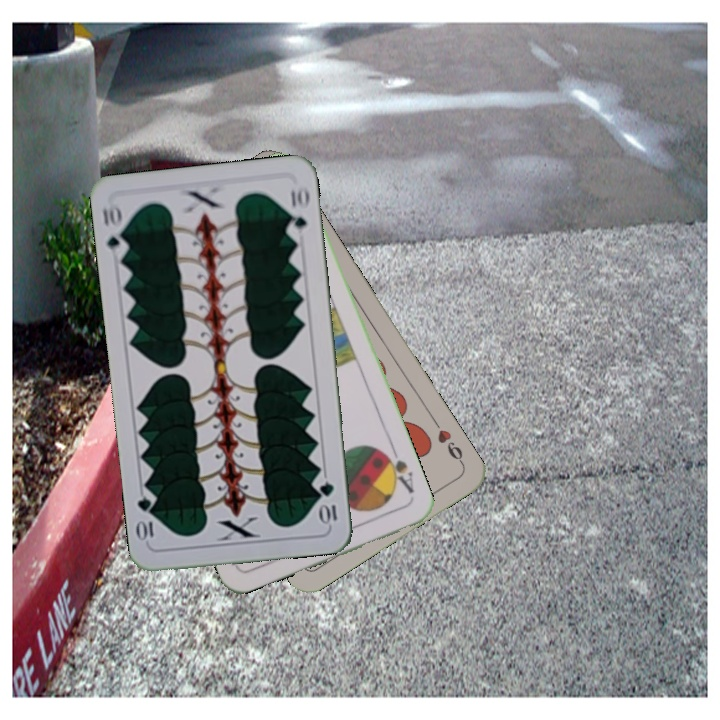G10: (98, 199, 130, 259), (316, 478, 340, 527)
H9: (429, 415, 467, 468)
SA: (378, 444, 417, 497)
